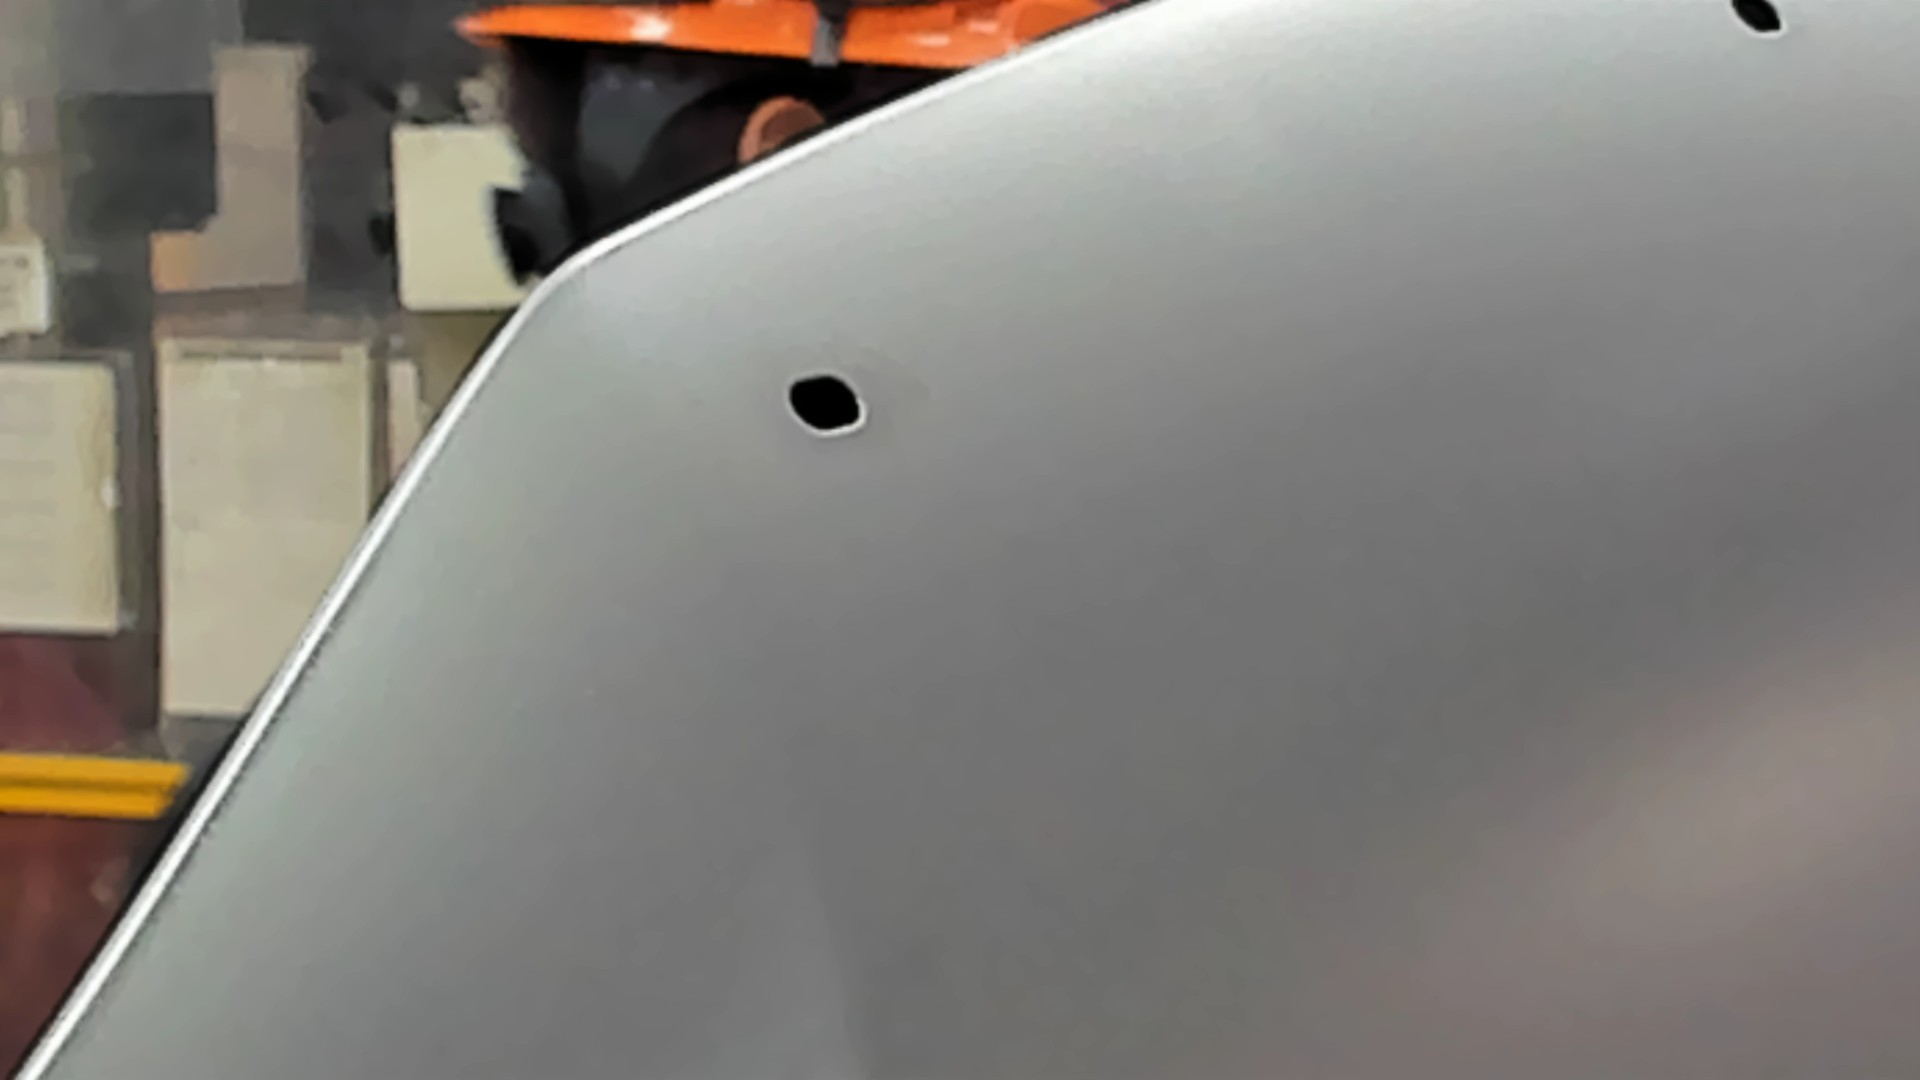amorfo: (781, 373, 870, 444), (1709, 1, 1807, 45)
capo: (972, 109, 1920, 1080)
